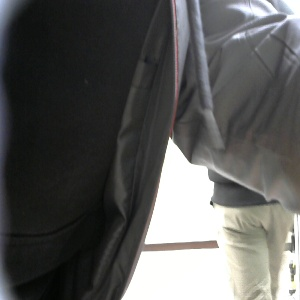Drone: (192, 1, 297, 244)
